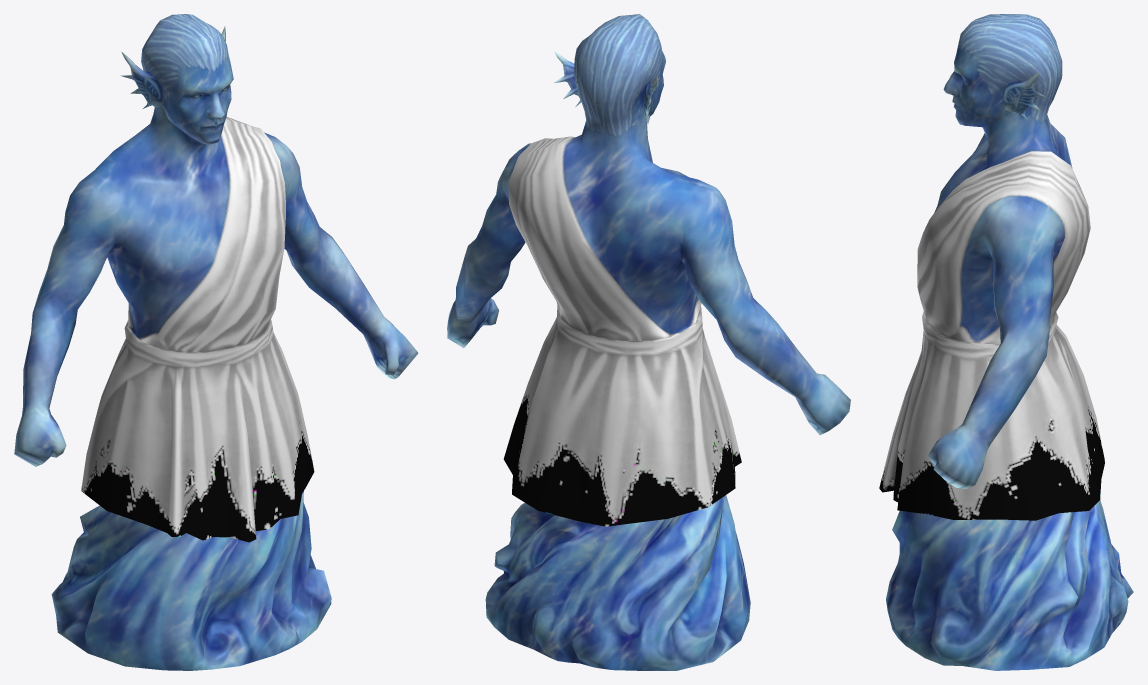
File: 245-servant.glb
The picture shows the model from 3 angles, left to right: view 1: azimuth 30°, elevation 25°; view 2: azimuth 150°, elevation 25°; view 3: azimuth 270°, elevation 25°; orthographic projection.
Bounding box in the file's own units: 1.24 × 1.77 × 0.6836.
Materials: 1 (1 with a texture image).
